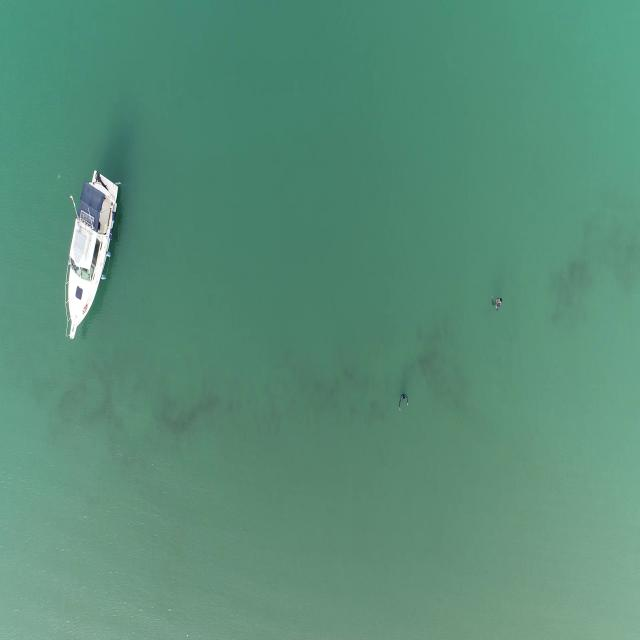boat: (60, 167, 121, 342)
person: (397, 391, 410, 413), (491, 292, 503, 314)
